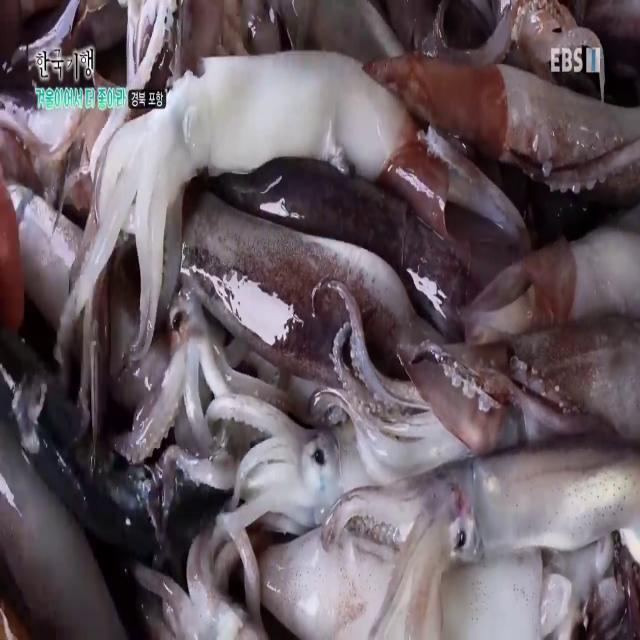squid: (70, 51, 454, 365), (311, 285, 640, 485), (324, 436, 640, 640), (246, 510, 614, 640), (359, 58, 640, 198), (181, 397, 377, 534)
